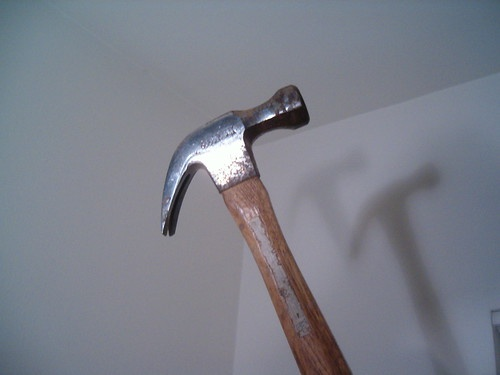hammer: (158, 85, 363, 374)
